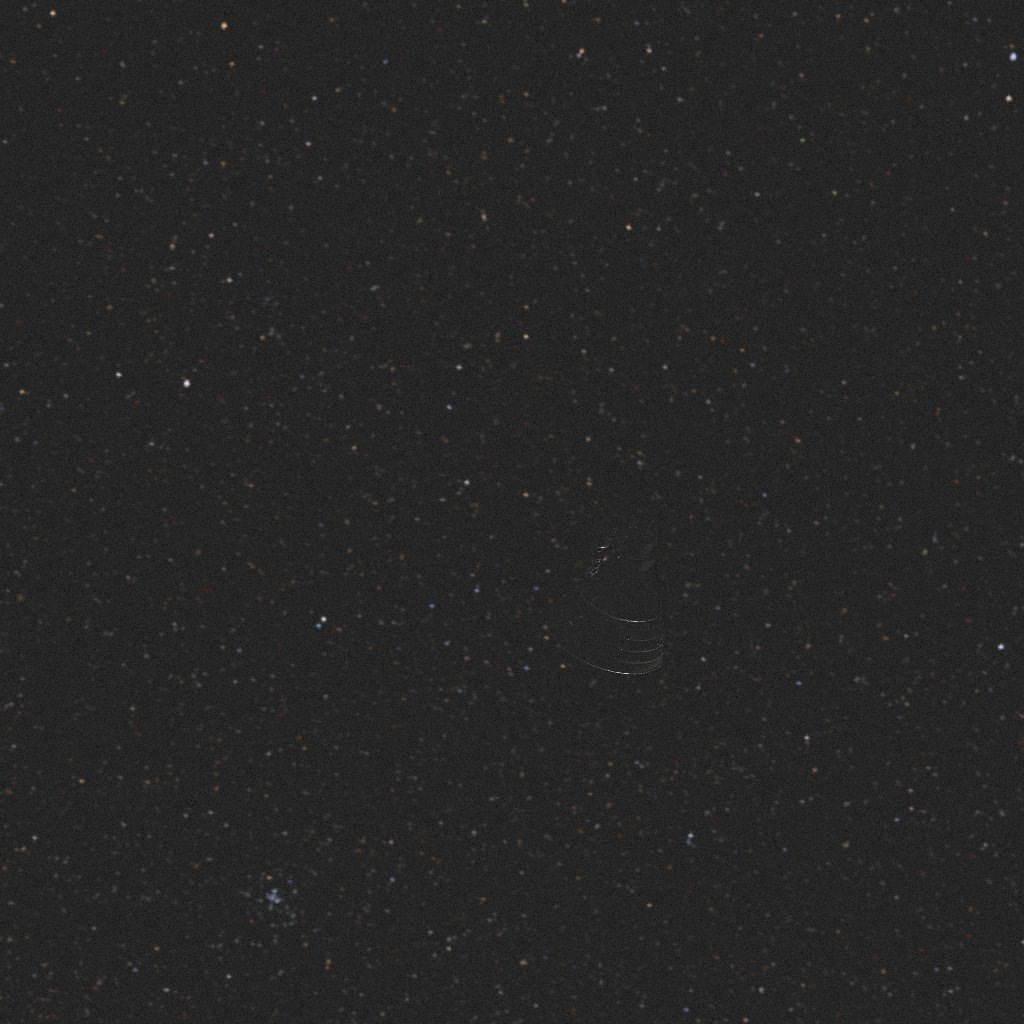debris: (547, 508, 665, 674)
